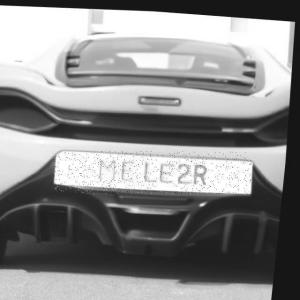Plate: (54, 152, 252, 194)
